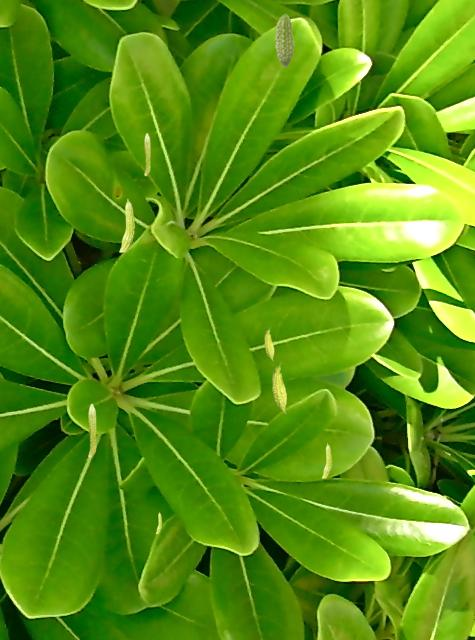ampalaya: (274, 13, 294, 68), (118, 198, 135, 253), (271, 362, 287, 414), (88, 403, 96, 458), (321, 442, 332, 478), (264, 326, 274, 361), (144, 133, 150, 176), (155, 511, 162, 534)
